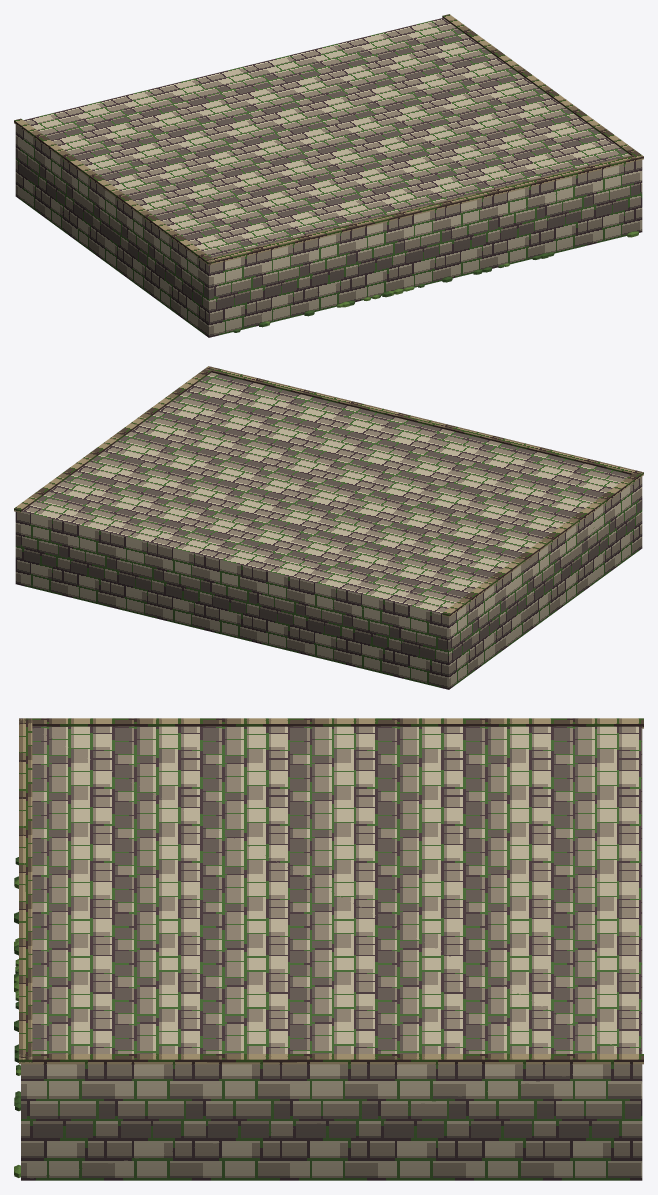
File: scene_wall_e8.glb
3 views of the same model, one above another, from view 1: azimuth 30°, elevation 25°; view 2: azimuth 150°, elevation 25°; view 3: azimuth 270°, elevation 25° (orthographic). The views are drawn at different scales.
Parts seen in each view (by area): view 1: scene_wall_e8; view 2: scene_wall_e8; view 3: scene_wall_e8.
Part boxes in pixels (x1=…): scene_wall_e8: x1=14, y1=14, x2=643, y2=337; scene_wall_e8: x1=14, y1=366, x2=643, y2=689; scene_wall_e8: x1=14, y1=718, x2=643, y2=1180.
Size of the model in its own units: 22.1 by 3.77 by 17.24.
2 materials, 1 textured.
